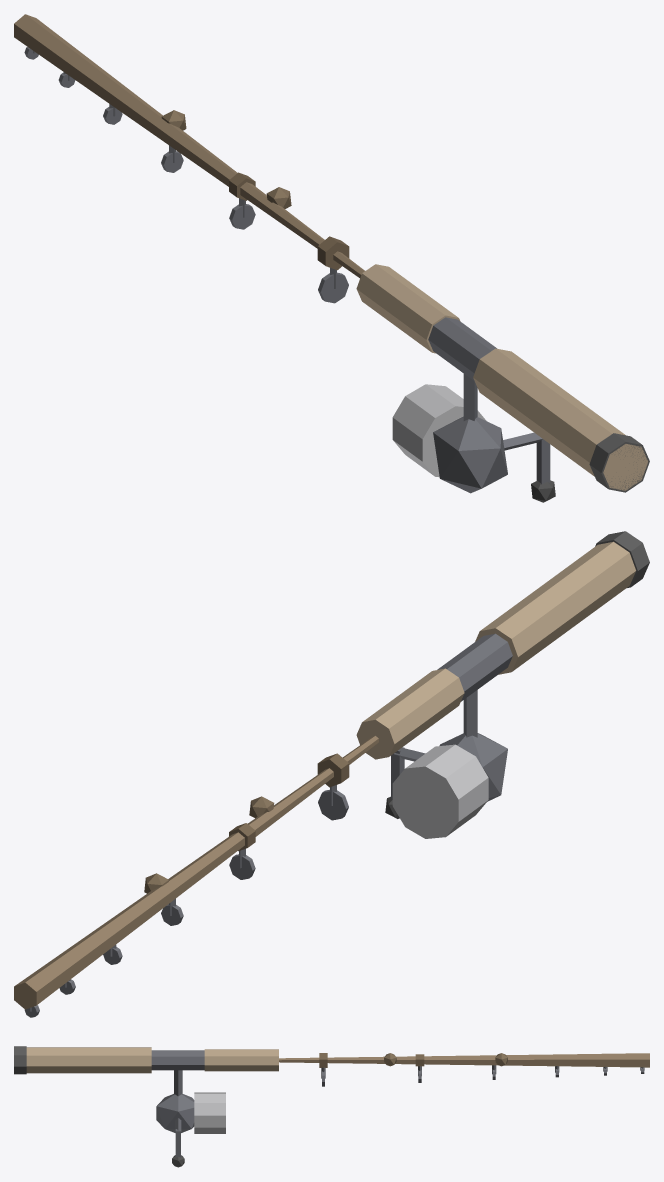
The model's file is WillowRod.glb.
The picture shows the model from 3 angles, top to bottom: view 1: azimuth 30°, elevation 25°; view 2: azimuth 150°, elevation 25°; view 3: azimuth 270°, elevation 25°; orthographic projection. The views are drawn at different scales.
Visible parts, largest first — view 1: WillowRod; view 2: WillowRod; view 3: WillowRod.
Boxes of the visible parts, <box> form: WillowRod: <box>14,14,649,502</box>; WillowRod: <box>14,531,649,1017</box>; WillowRod: <box>14,1046,649,1167</box>.
Bounding box in the file's own units: 0.6728 × 1.06 × 6.
